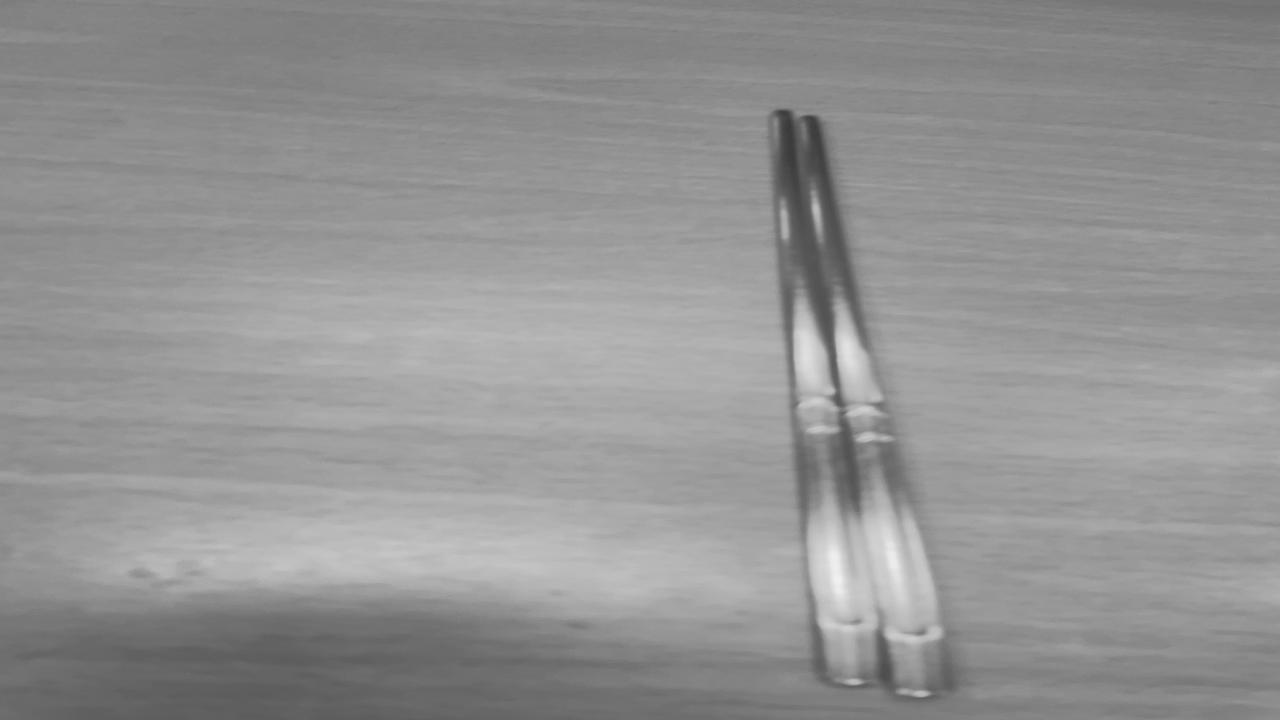chopstick: (775, 112, 946, 696)
